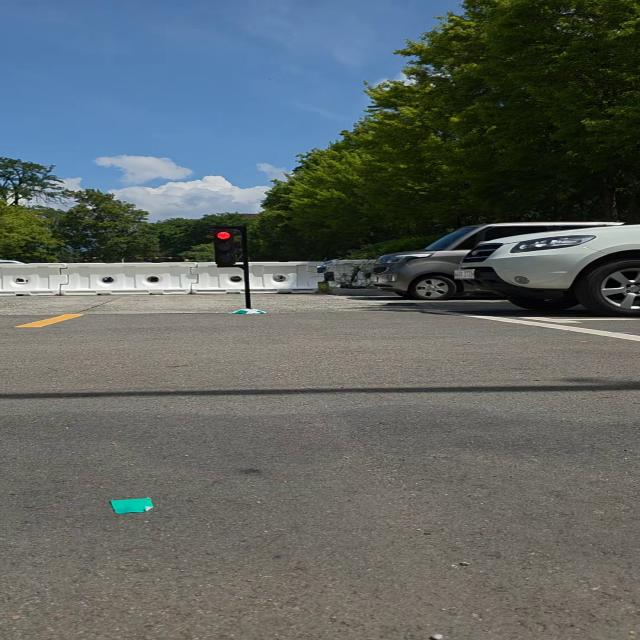red: (210, 227, 242, 268)
